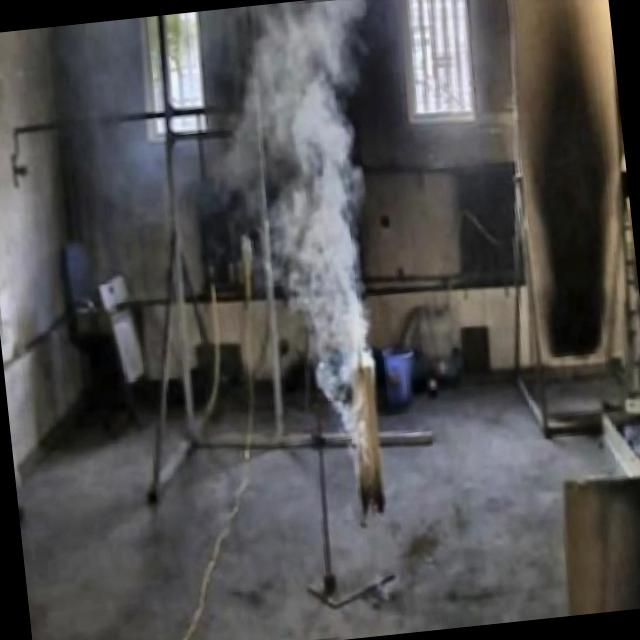smoke: (232, 0, 429, 449)
